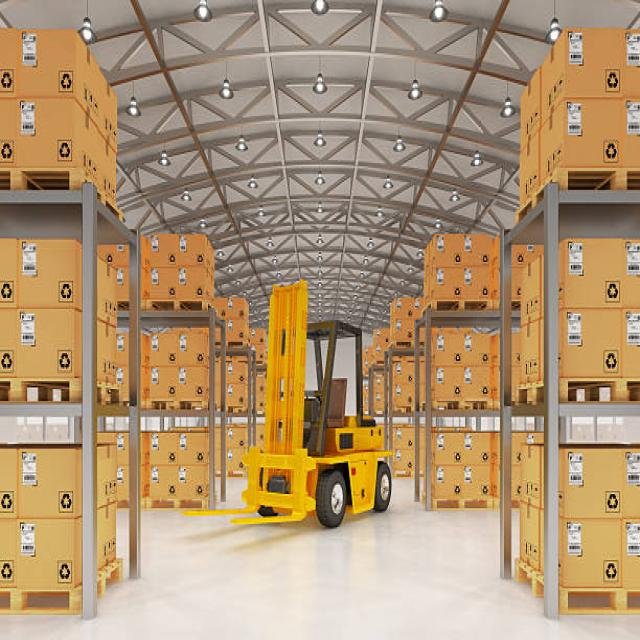Wooden-Pallets: (2, 168, 83, 200), (1, 585, 77, 613), (561, 168, 638, 194), (143, 288, 209, 314), (432, 290, 500, 315), (145, 391, 208, 414), (427, 395, 496, 415), (427, 494, 495, 514), (149, 492, 209, 512)
